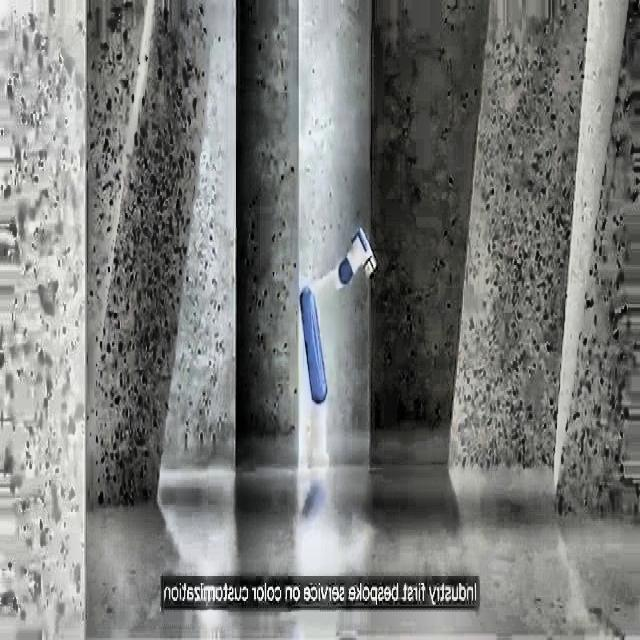robot: (299, 224, 379, 404)
